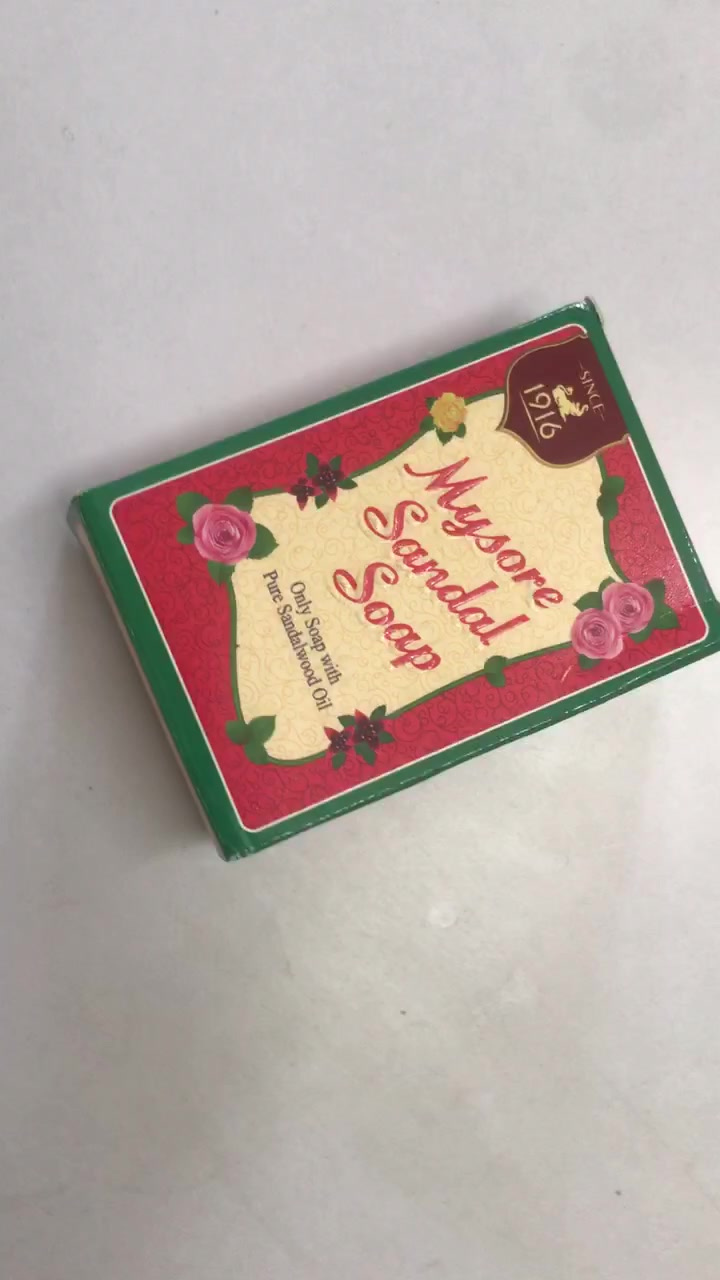mysore sandal soap: (67, 306, 720, 858)
